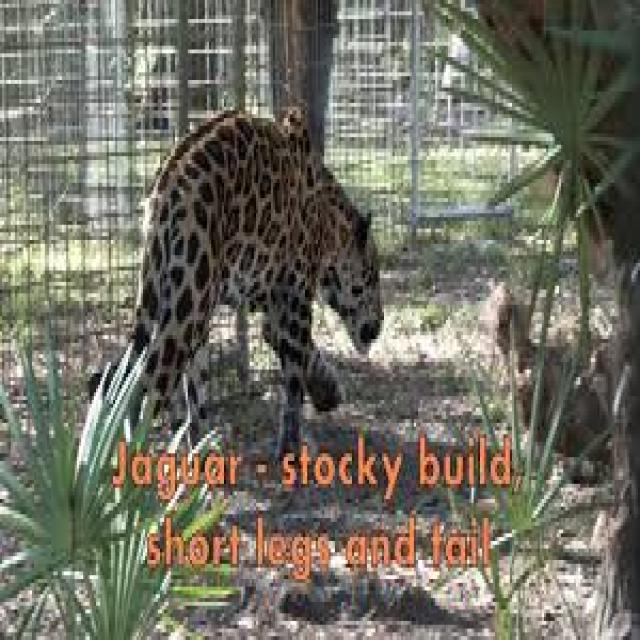Jaguar: (111, 99, 380, 427)
